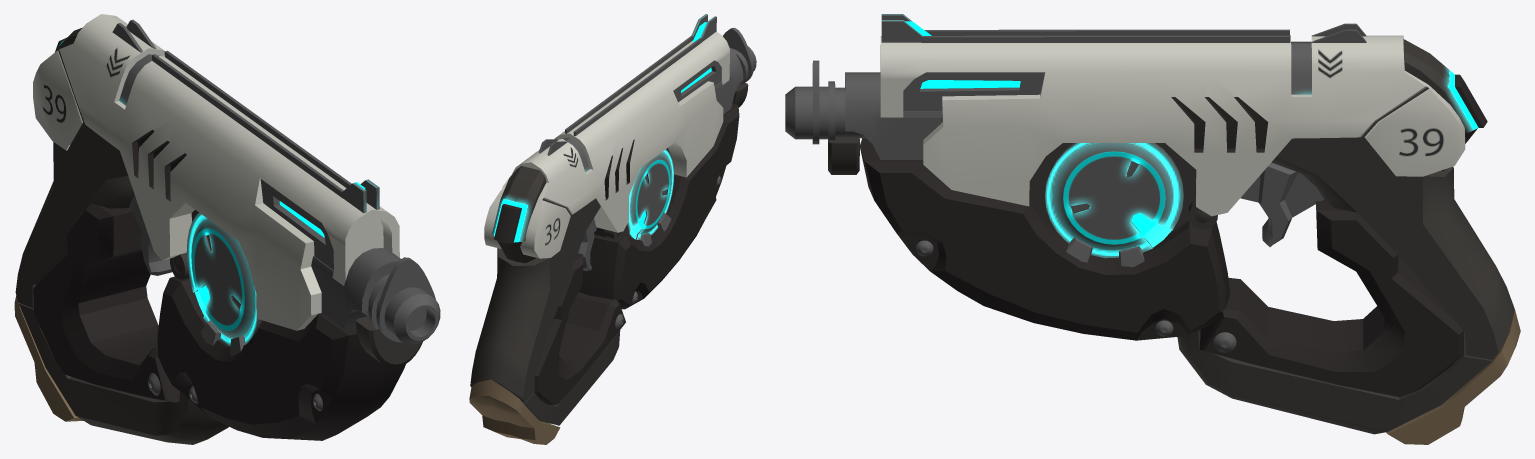
Rendered from tracers_gun.glb.
3 views of the same model, side by side, from view 1: azimuth 30°, elevation 25°; view 2: azimuth 150°, elevation 25°; view 3: azimuth 270°, elevation 25° (orthographic). The views are drawn at different scales.
Visible parts, largest first — view 1: Tracer_Gun; view 2: Tracer_Gun; view 3: Tracer_Gun.
Boxes of the visible parts, x1,y1,x2,y2 form: Tracer_Gun: [14, 14, 440, 444]; Tracer_Gun: [469, 14, 756, 444]; Tracer_Gun: [785, 14, 1520, 444].
Bounding box in the file's own units: 4.91 × 21.88 × 35.42.
Materials: 1 (1 with a texture image).
